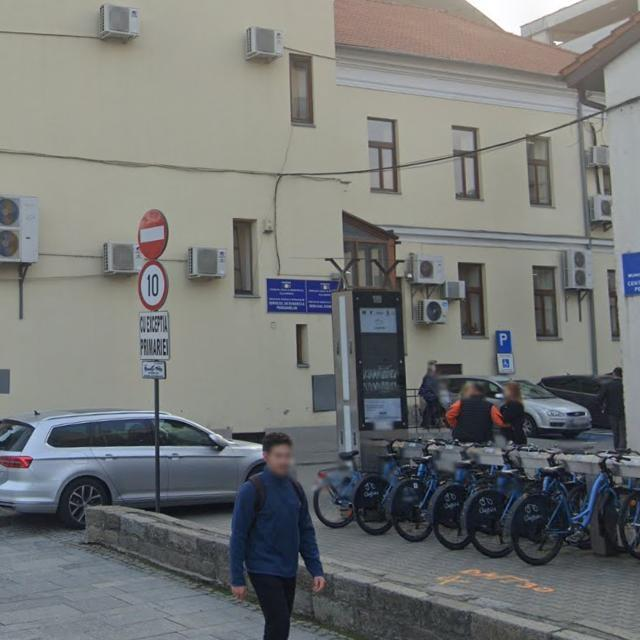forb_speed_over_10: (137, 261, 169, 312)
